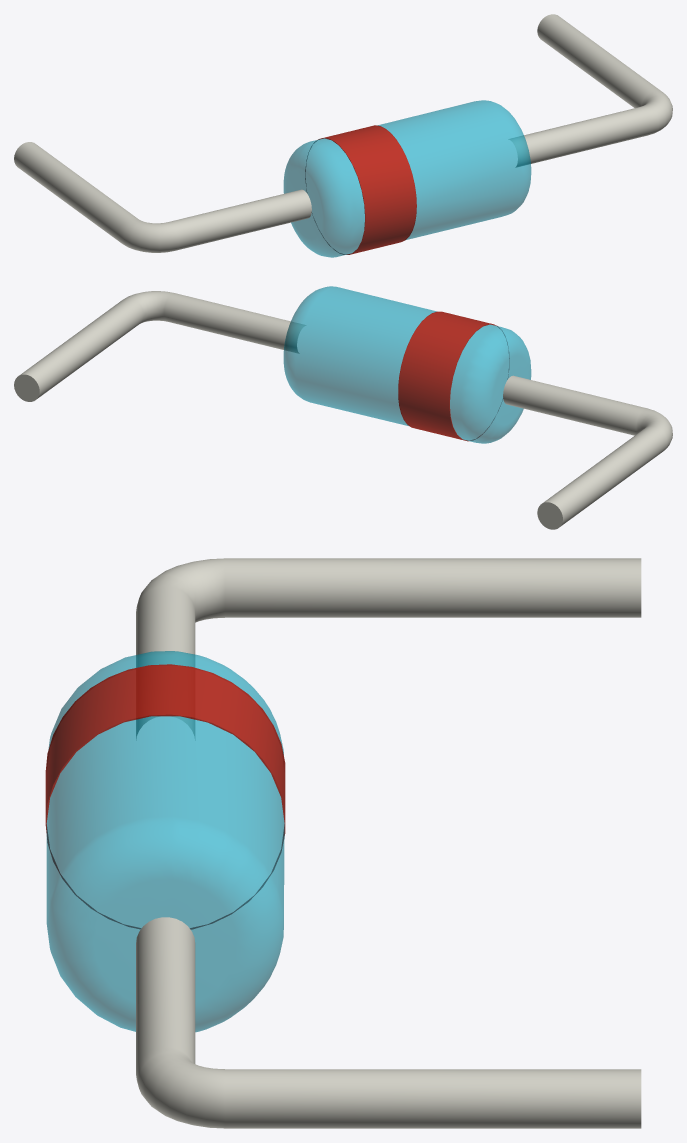
The model's file is d-do-35-sod27-p10.16-h.glb.
3 renders of one model, top to bottom at view 1: azimuth 30°, elevation 25°; view 2: azimuth 150°, elevation 25°; view 3: azimuth 270°, elevation 25°, orthographic. The views are drawn at different scales.
Visible parts, largest first — view 1: GLASS-13, PIN-01, LED-RED; view 2: GLASS-13, PIN-01, LED-RED; view 3: PIN-01, GLASS-13, LED-RED.
Boxes of the visible parts, x1,y1,x2,y2 form: GLASS-13: (283,100,531,257); PIN-01: (14,14,672,252); LED-RED: (305,125,416,254); GLASS-13: (283,286,531,443); PIN-01: (14,291,672,529); LED-RED: (398,311,509,441); PIN-01: (136,558,641,1128); GLASS-13: (46,651,284,1031); LED-RED: (45,664,285,929).
Bounding box in the file's own units: 10.66 × 2.02 × 5.01.
